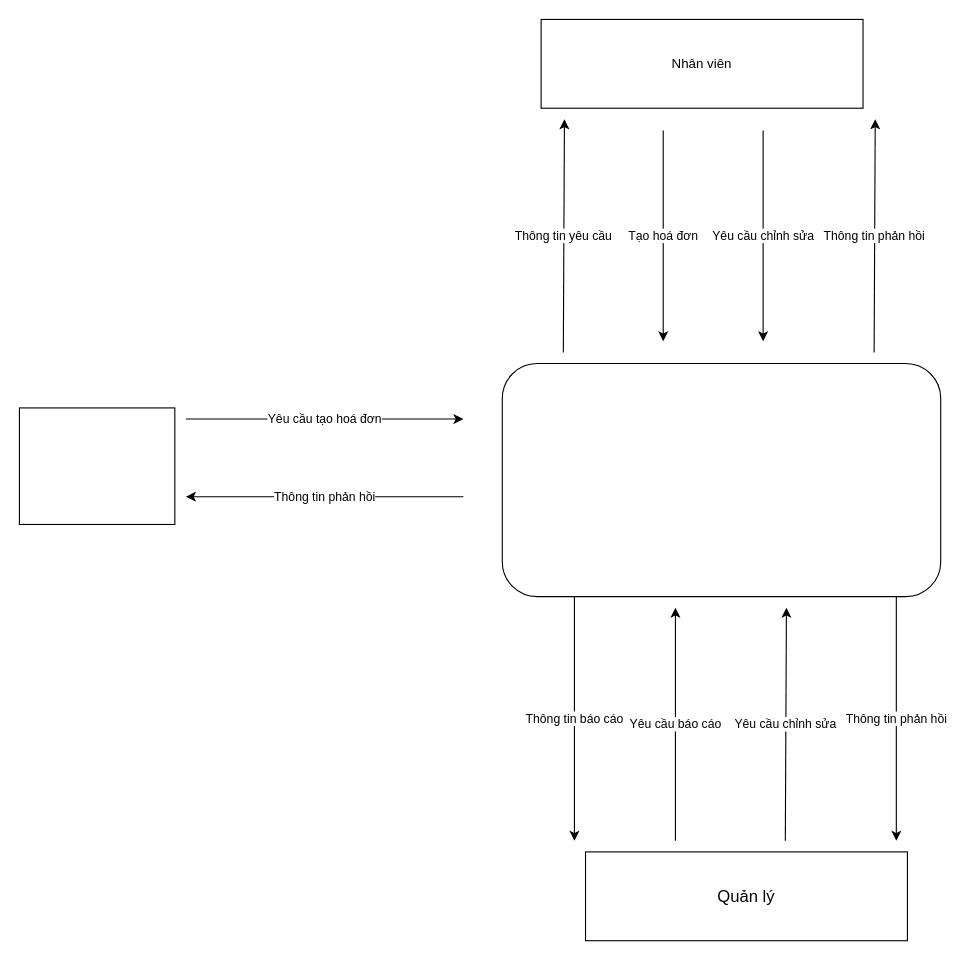
Image size: 966x960. Some labels were removed from this diagram. The centre of each missing label's shape, as x and y in pixels:
Hệ thống quản lý cửa hàng bán sách: the point at 721,479
Khách hàng: the point at 96,465
